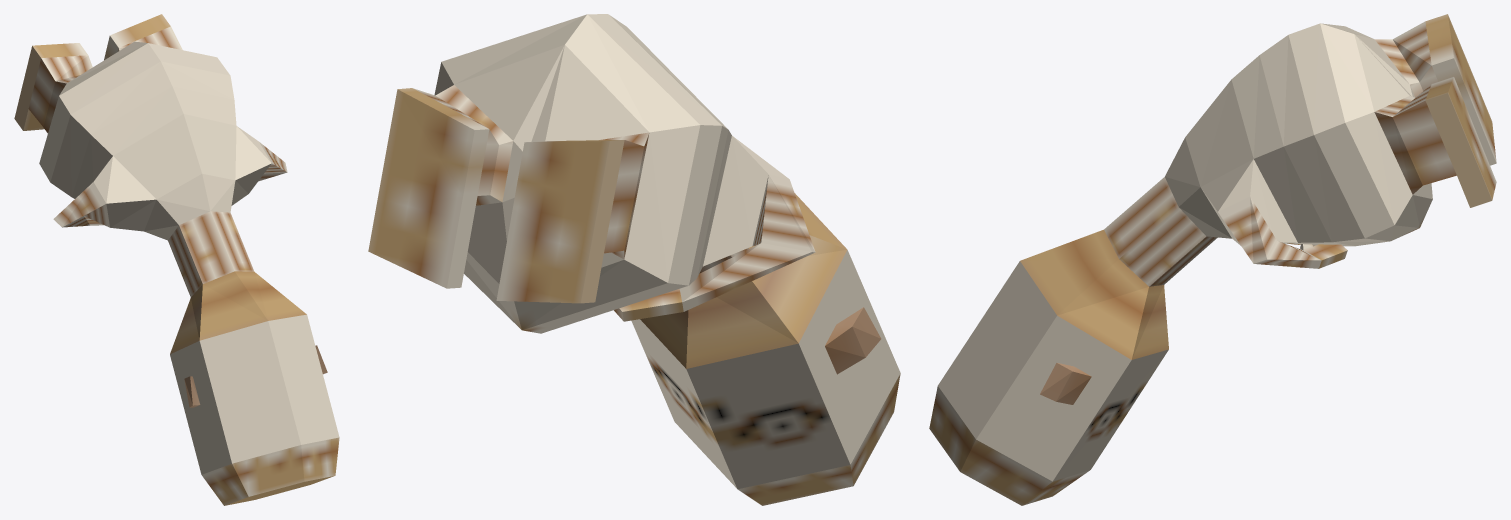
The model's file is ancientIdol_attack.obj.
3 renders of one model, left to right at view 1: azimuth 30°, elevation 25°; view 2: azimuth 150°, elevation 25°; view 3: azimuth 270°, elevation 25°, orthographic. The views are drawn at different scales.
Visible parts, largest first — view 1: Cylinder; view 2: Cylinder; view 3: Cylinder.
Boxes of the visible parts, x1,y1,x2,y2 form: Cylinder: (14,14,339,505); Cylinder: (368,14,900,505); Cylinder: (929,14,1496,505).
Bounding box in the file's own units: 8.85 × 13.79 × 14.99.
Materials: 1 (1 with a texture image).
